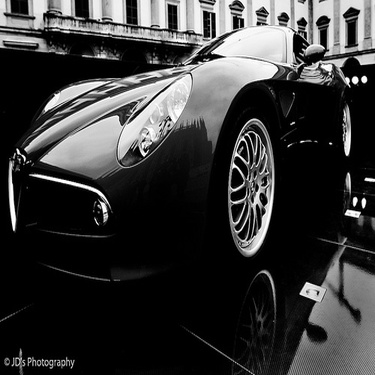car: (1, 16, 366, 306)
